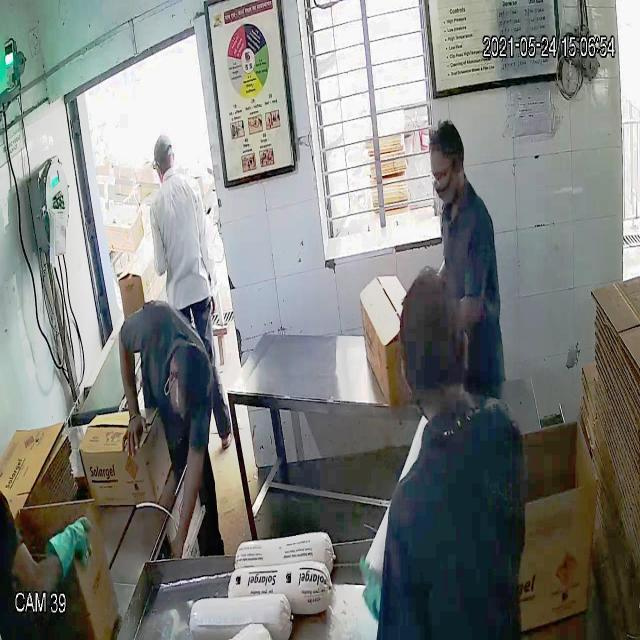glasses: (423, 157, 458, 191)
